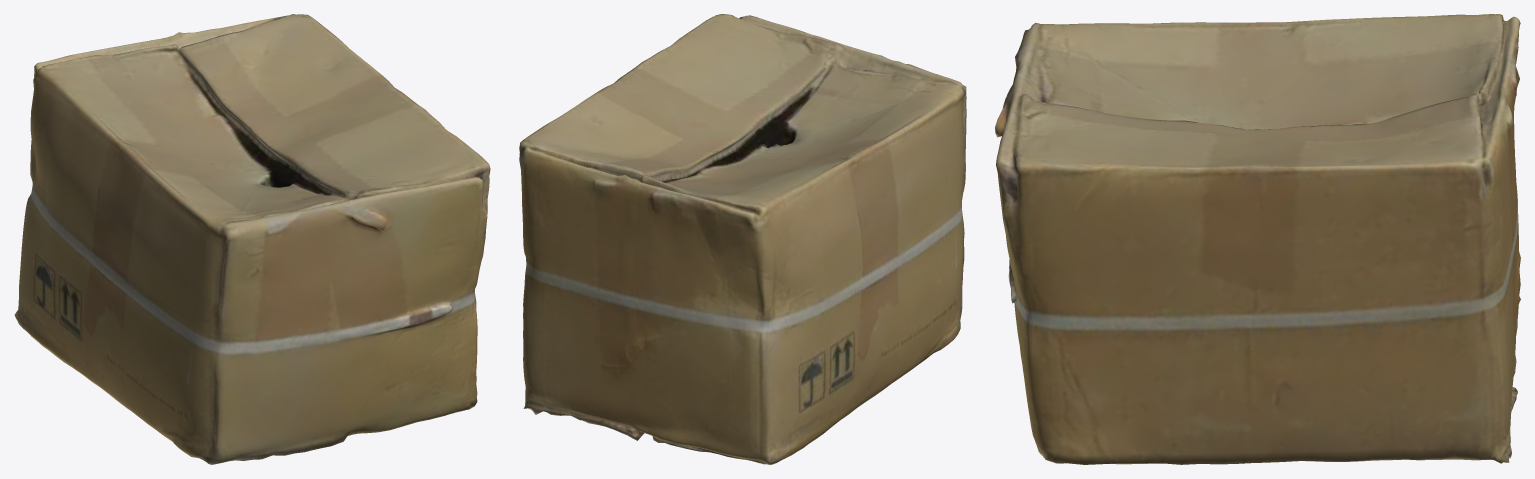
Rendered from cardboard_box.glb.
3 views of the same model, side by side, from view 1: azimuth 30°, elevation 25°; view 2: azimuth 150°, elevation 25°; view 3: azimuth 270°, elevation 25° (orthographic). The views are drawn at different scales.
Visible parts, largest first — view 1: cardboard_box_01; view 2: cardboard_box_01; view 3: cardboard_box_01.
Boxes of the visible parts, <box> form: cardboard_box_01: <box>14,14,490,464</box>; cardboard_box_01: <box>519,14,966,464</box>; cardboard_box_01: <box>995,14,1520,464</box>.
Bounding box in the file's own units: 0.387 × 0.3418 × 0.5159.
1 material, 1 textured.
